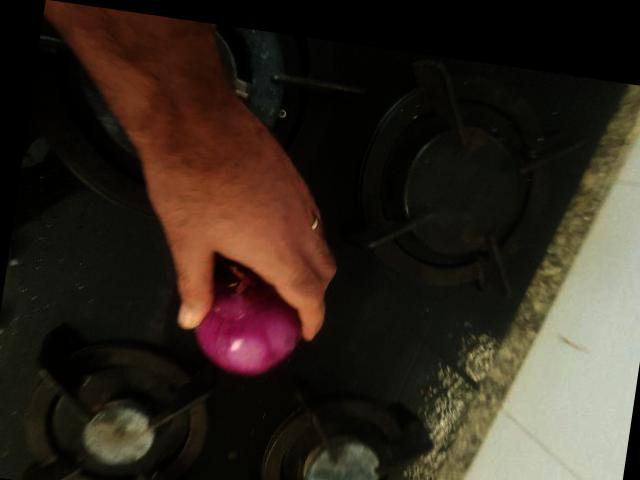onion: (180, 262, 305, 384)
